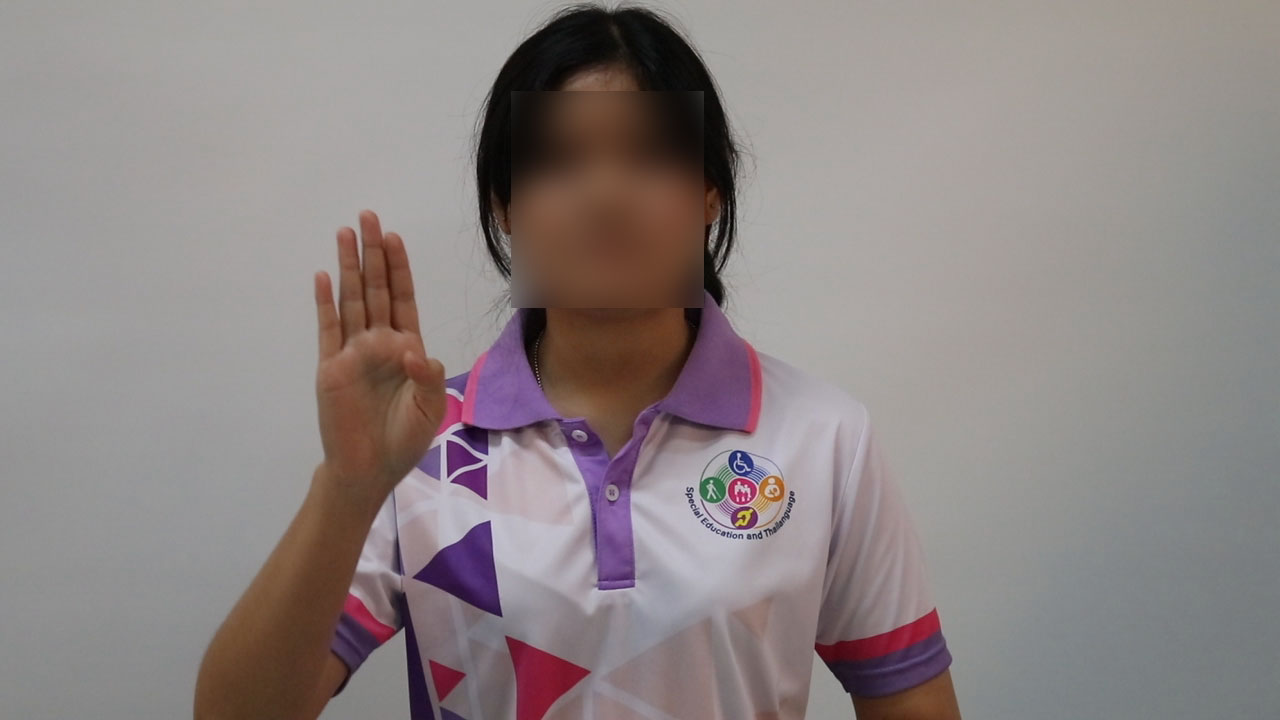bor: (293, 199, 462, 516)
